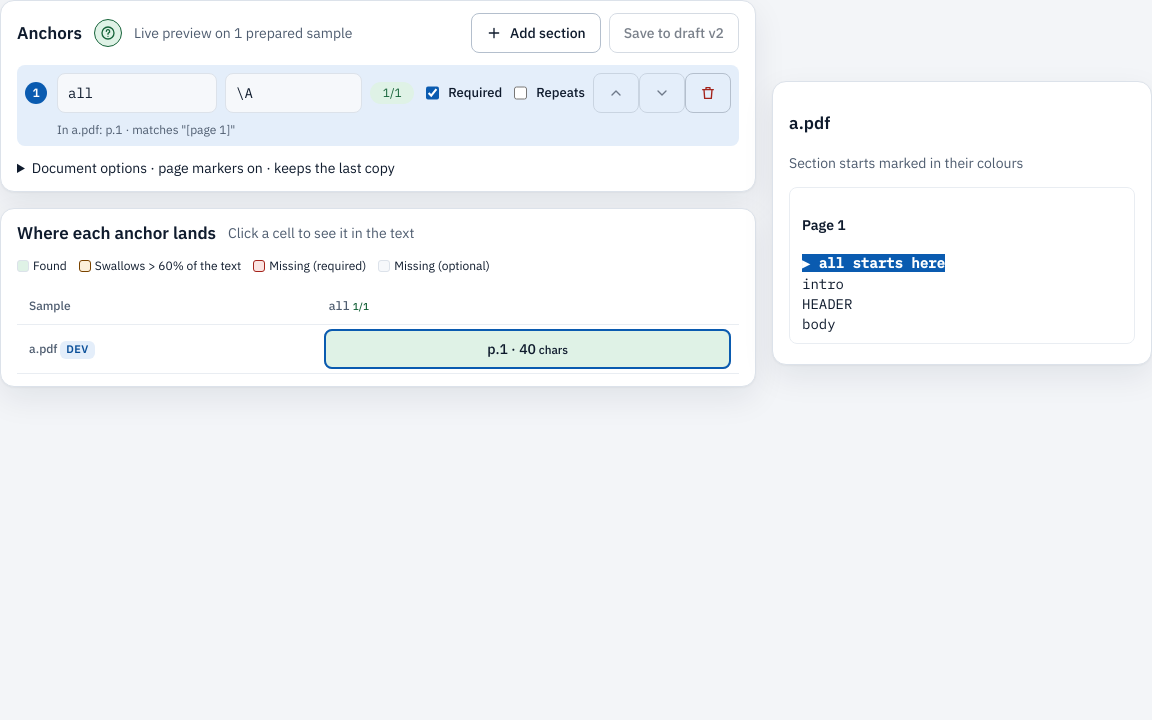
Test: SectionsTab › explains sections from the help button by the Anchors heading
The width and height of the screenshot is (1152, 720).
Click the button named "Help: How sections work".
click(108, 33)  # box [94,19,122,47]
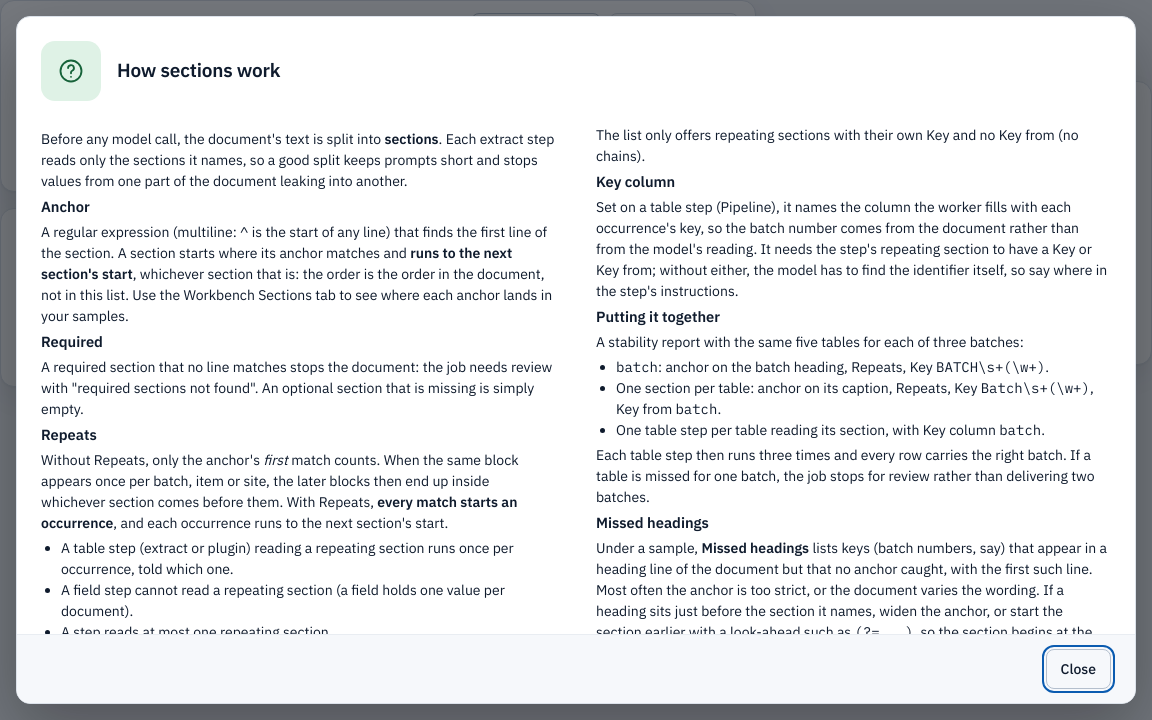
Expected: the dialog "How sections work" is shown
